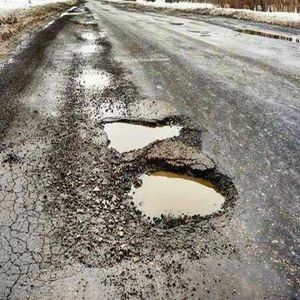pothole: (123, 160, 235, 224), (95, 114, 188, 153)
